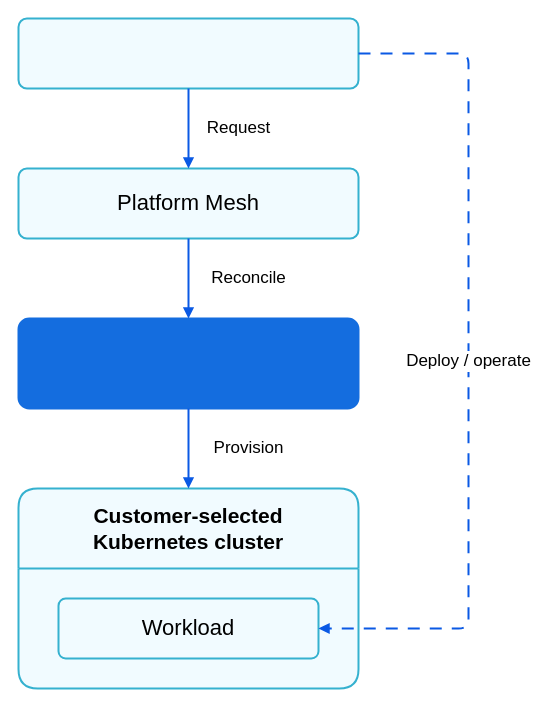
This 548x706 diagram has some shape labels left out. Here are the shapes that lost their labels. From the top down, the centre of each, then its label:
At pixel 188 53: "Consumer".
At pixel 188 363: "SimpleCluster Provider integration".
